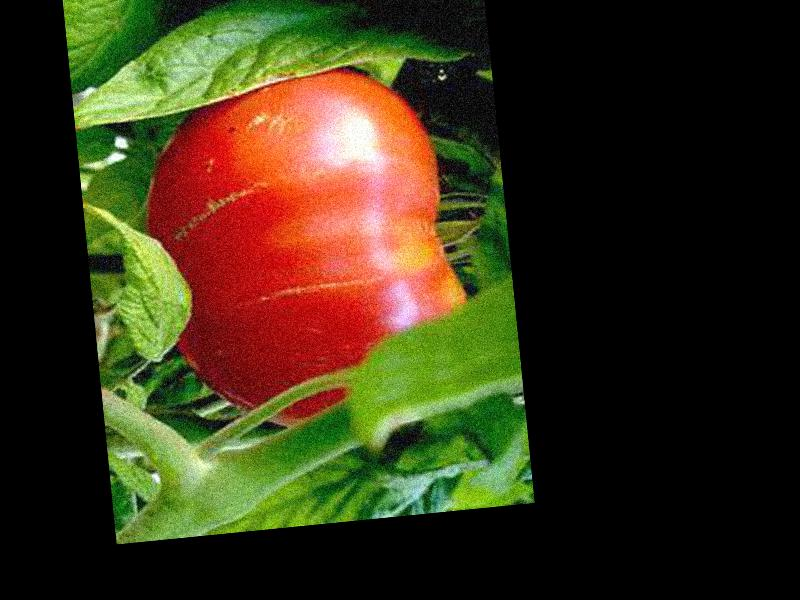Tomato: (134, 55, 478, 437)
